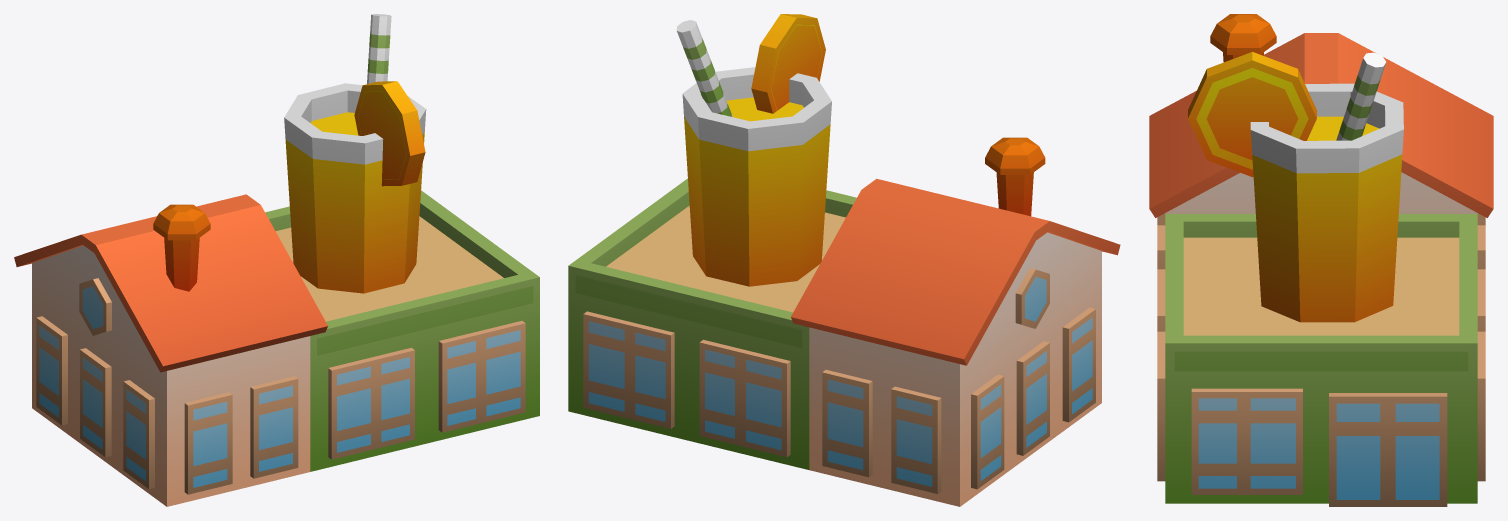
The model's file is juice smoothie shop.fbx.
The picture shows the model from 3 angles, left to right: view 1: azimuth 30°, elevation 25°; view 2: azimuth 150°, elevation 25°; view 3: azimuth 270°, elevation 25°; orthographic projection. The views are drawn at different scales.
Visible parts, largest first — view 1: juice_smoothie_shop; view 2: juice_smoothie_shop; view 3: juice_smoothie_shop.
Boxes of the visible parts, bbox=[...] form: juice_smoothie_shop: bbox=[14, 14, 539, 506]; juice_smoothie_shop: bbox=[568, 14, 1120, 506]; juice_smoothie_shop: bbox=[1149, 14, 1493, 506].
Size of the model in its own units: 889 by 771 by 589.
1 material, 1 textured.
